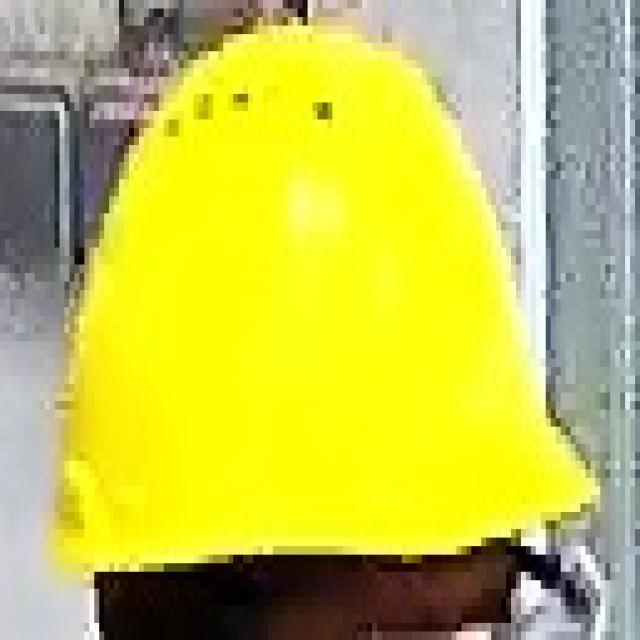yellow helmet: (29, 24, 616, 586)
